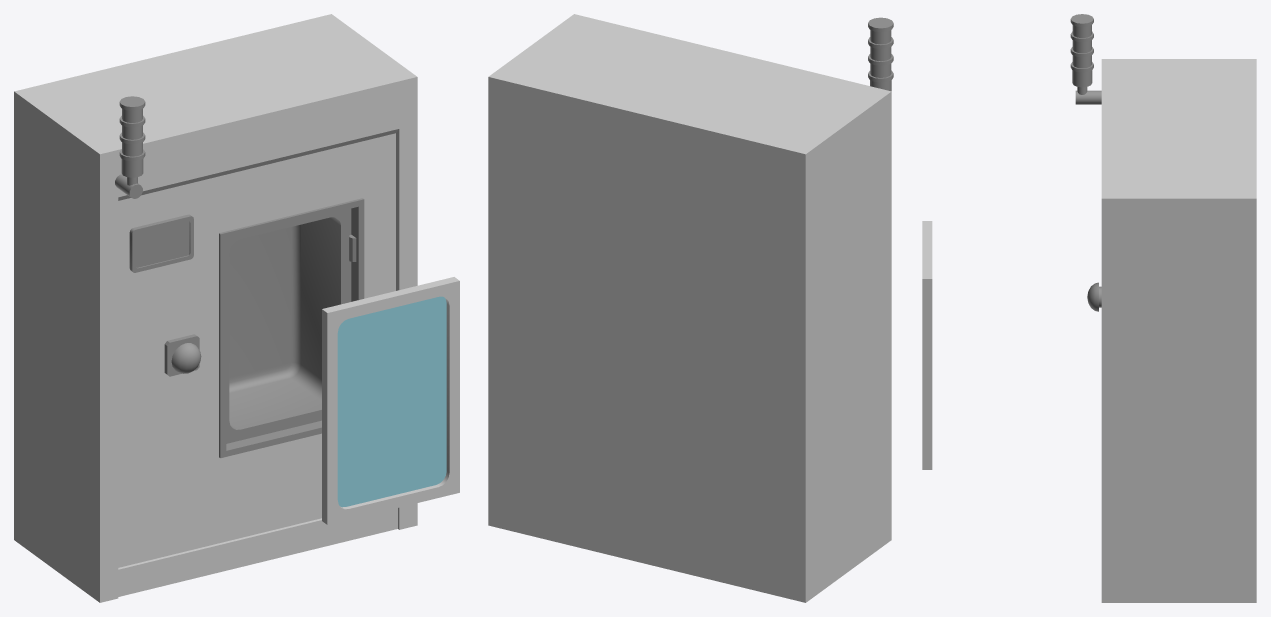
Rendered from ChipOven.fbx.
3 renders of one model, left to right at view 1: azimuth 30°, elevation 25°; view 2: azimuth 150°, elevation 25°; view 3: azimuth 270°, elevation 25°, orthographic. The views are drawn at different scales.
Visible parts, largest first — view 1: Oven, OvenDoor, OvenButton; view 2: Oven; view 3: Oven, OvenDoor.
Part boxes in pixels (bbox=[...]): Oven: bbox=[14, 14, 417, 602]; OvenDoor: bbox=[322, 277, 459, 524]; OvenButton: bbox=[171, 343, 201, 373]; Oven: bbox=[488, 14, 893, 602]; Oven: bbox=[1070, 14, 1256, 602]; OvenDoor: bbox=[922, 221, 932, 469].
Size of the model in its own units: 1.78 by 2.7 by 1.8.
